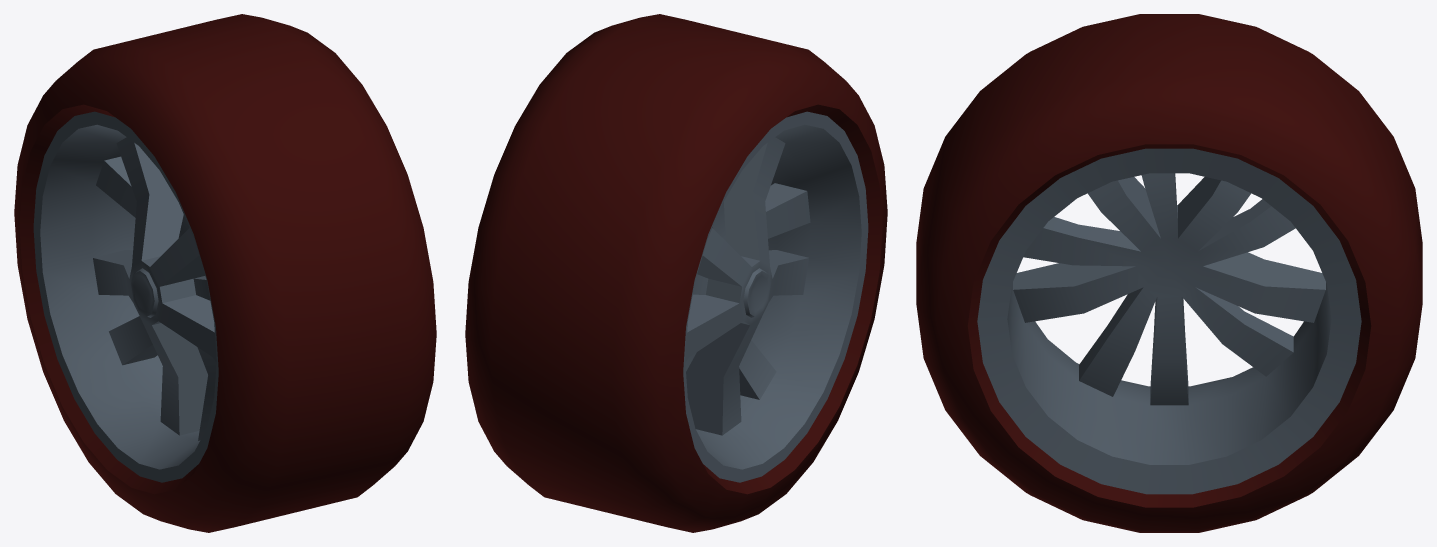
3 renders of one model, left to right at view 1: azimuth 30°, elevation 25°; view 2: azimuth 150°, elevation 25°; view 3: azimuth 270°, elevation 25°, orthographic.
Visible parts, largest first — view 1: W7B; view 2: W7B; view 3: W7B.
Part boxes in pixels (<box>): W7B: <box>14,14,436,532</box>; W7B: <box>465,14,887,532</box>; W7B: <box>916,14,1422,532</box>.
Bounding box in the file's own units: 14.02 × 28.35 × 28.56.
